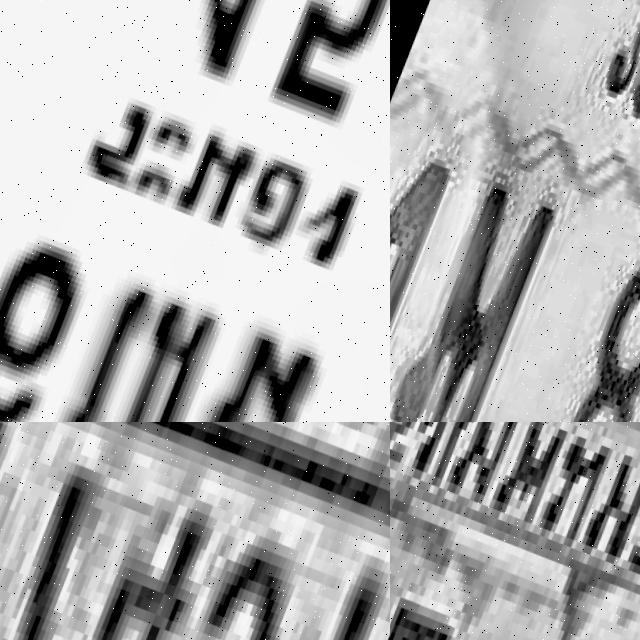license-plate: (0, 0, 390, 422), (390, 0, 640, 422), (0, 422, 390, 640), (390, 422, 640, 640)
